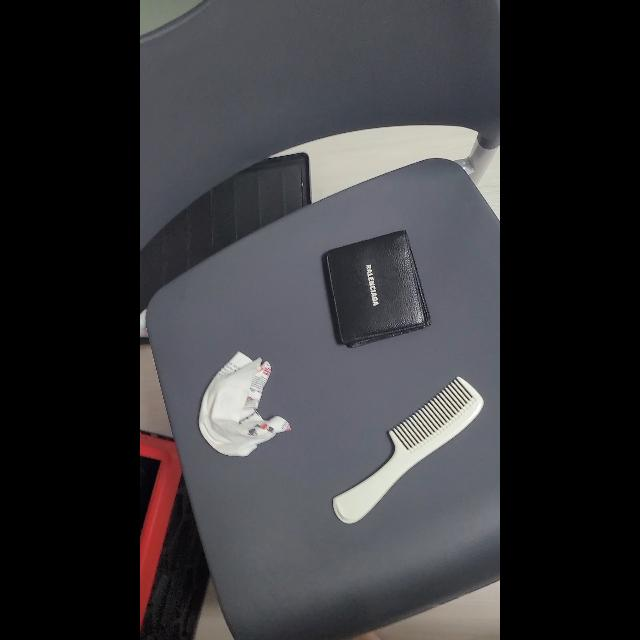COMB: (332, 376, 483, 524)
Glasses cleaning cloth: (198, 351, 290, 457)
WALLET: (321, 230, 431, 348)
